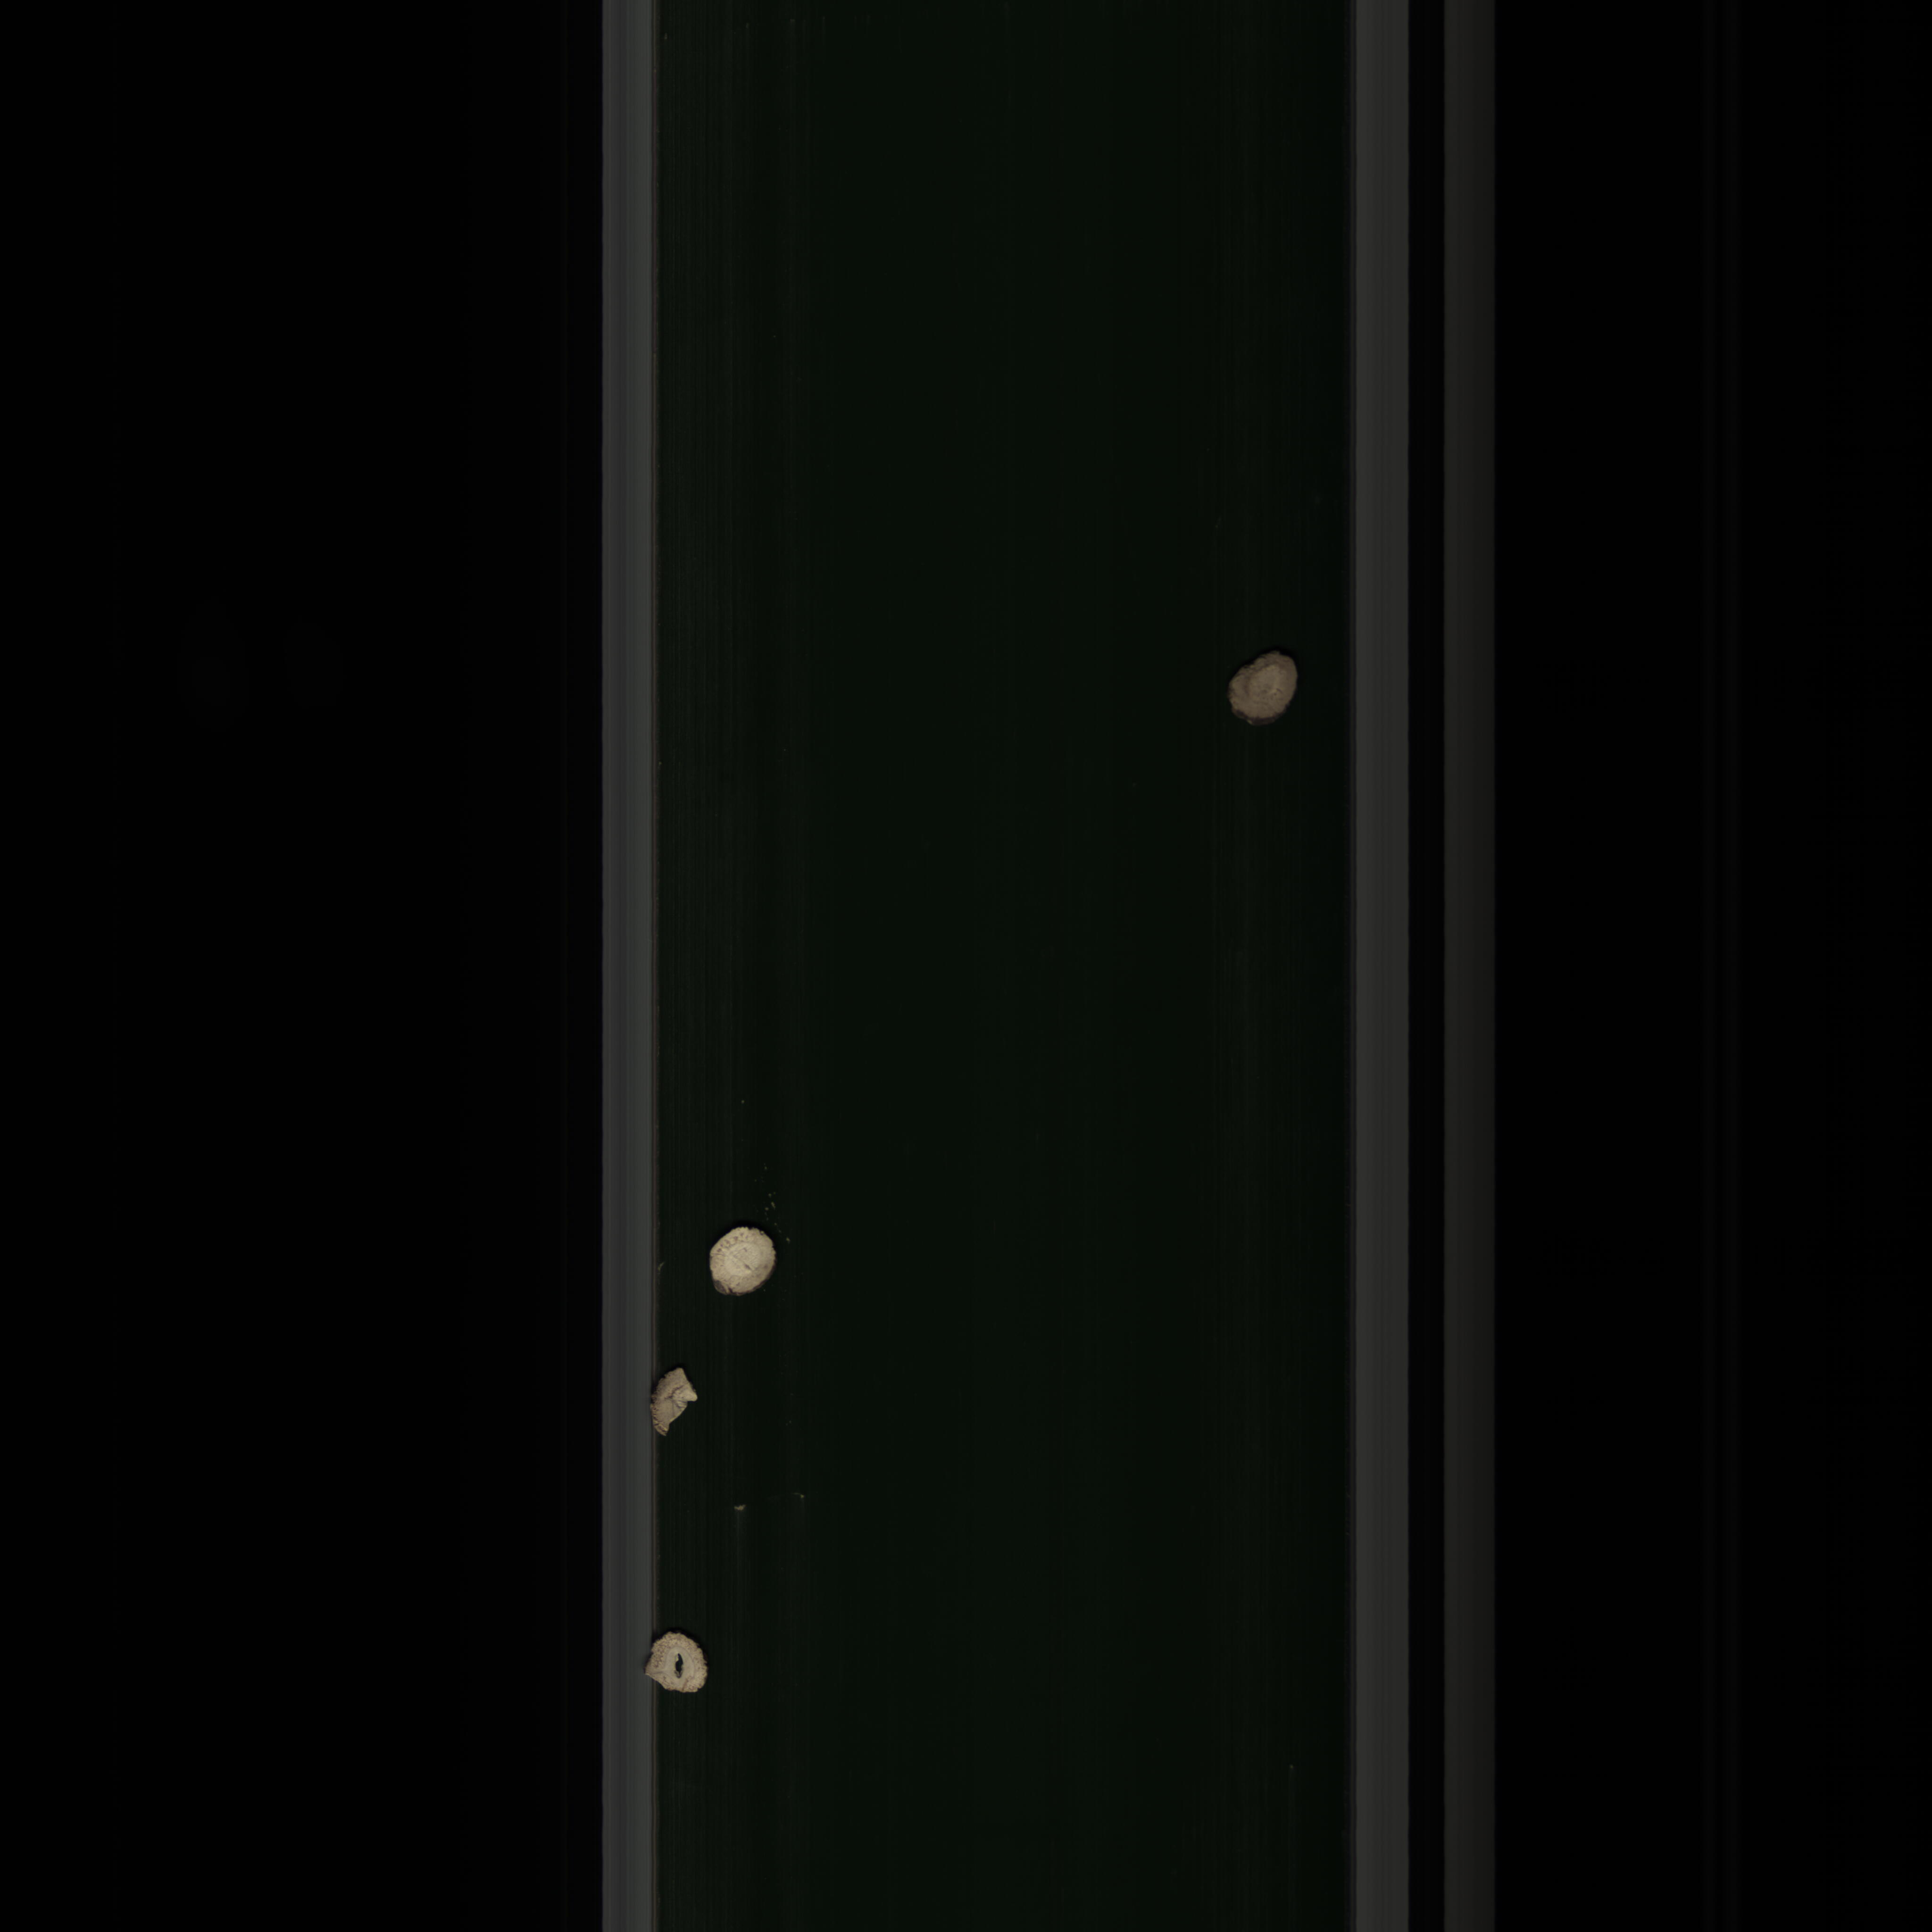debris: (644, 1361, 704, 1440)
hole: (637, 1624, 718, 1704)
moldy: (1207, 644, 1309, 731)
